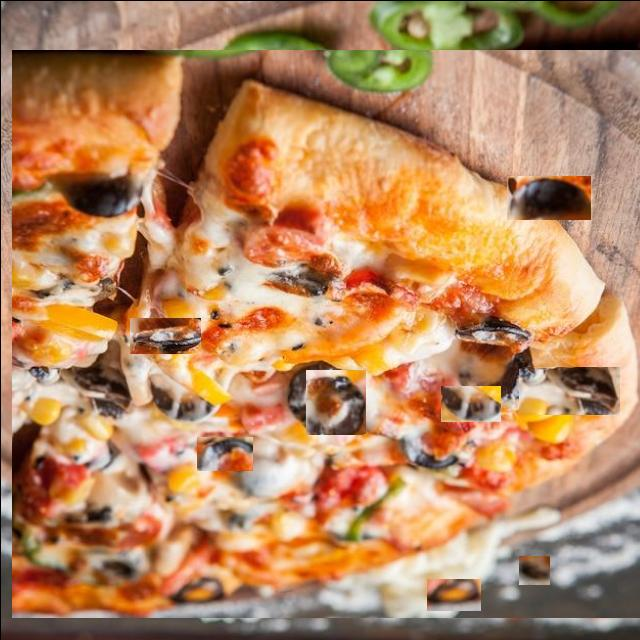olive: (518, 366, 619, 414), (116, 341, 194, 403), (305, 369, 365, 434), (506, 175, 590, 219), (129, 317, 200, 353), (440, 385, 500, 421), (196, 436, 252, 470), (426, 578, 480, 610), (537, 506, 596, 528), (518, 555, 549, 584)
pizza: (11, 49, 640, 617)
